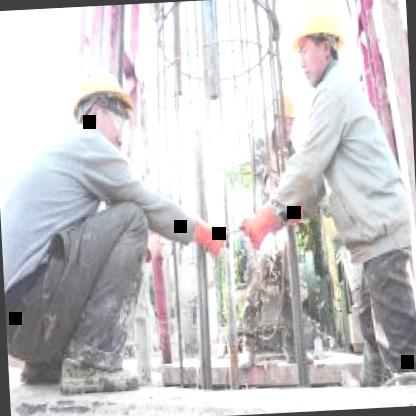helmet: (61, 56, 146, 154), (286, 0, 356, 87)
